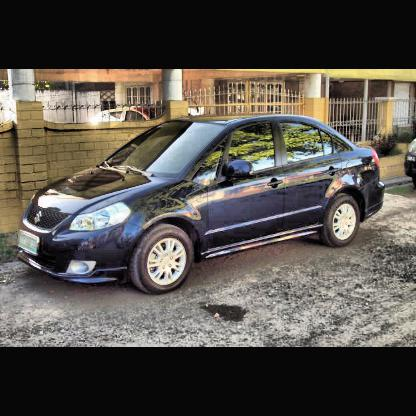Suzuki SX4 Sedan 2012: (13, 114, 386, 296)
